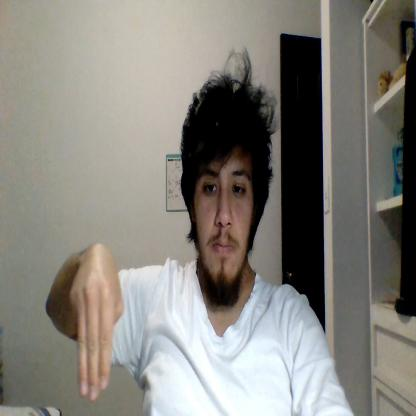M: (70, 244, 124, 400)
